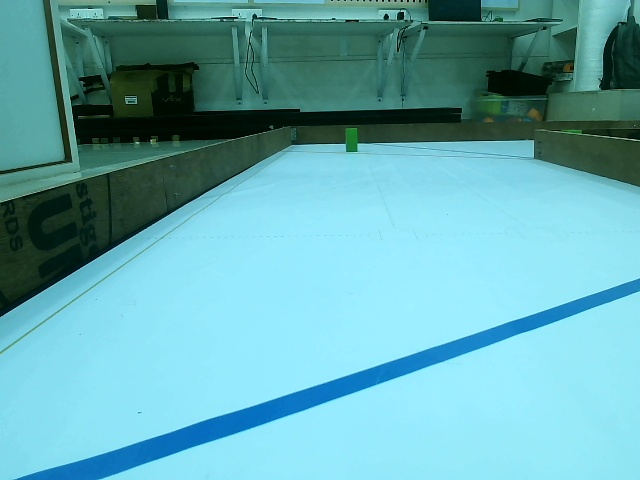green: (347, 128, 357, 152)
